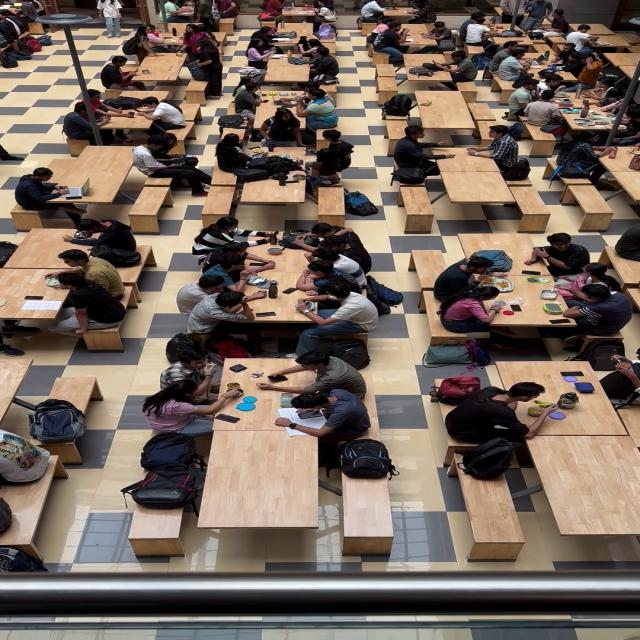Occupied: (189, 220, 400, 352), (429, 353, 640, 482), (441, 238, 634, 352), (149, 352, 375, 440), (27, 219, 145, 352), (220, 109, 364, 176), (0, 394, 111, 480), (388, 119, 532, 181), (518, 64, 640, 132), (391, 120, 528, 178), (64, 88, 180, 137), (11, 166, 103, 222), (250, 22, 338, 80), (143, 436, 201, 515), (133, 134, 210, 192), (228, 77, 336, 117), (235, 40, 337, 80), (555, 132, 640, 176), (467, 10, 562, 49), (372, 16, 469, 54), (0, 0, 56, 65), (490, 44, 607, 74), (334, 436, 397, 479), (129, 26, 220, 54), (403, 50, 473, 86), (99, 52, 168, 86), (154, 0, 242, 24), (0, 480, 29, 550), (260, 0, 347, 21), (379, 87, 428, 118), (571, 16, 610, 50), (360, 1, 435, 16)
Unoccupied: (200, 438, 326, 529), (549, 483, 640, 533), (537, 436, 640, 479), (462, 481, 530, 544), (340, 475, 391, 538), (419, 87, 473, 127), (32, 368, 97, 396), (133, 506, 182, 540), (242, 176, 304, 202), (565, 177, 604, 218), (512, 182, 550, 222), (395, 185, 435, 221), (64, 144, 126, 164), (129, 191, 171, 220), (450, 183, 510, 202), (419, 244, 441, 286), (318, 186, 346, 217), (208, 187, 237, 212), (378, 58, 393, 91), (476, 98, 494, 121)
